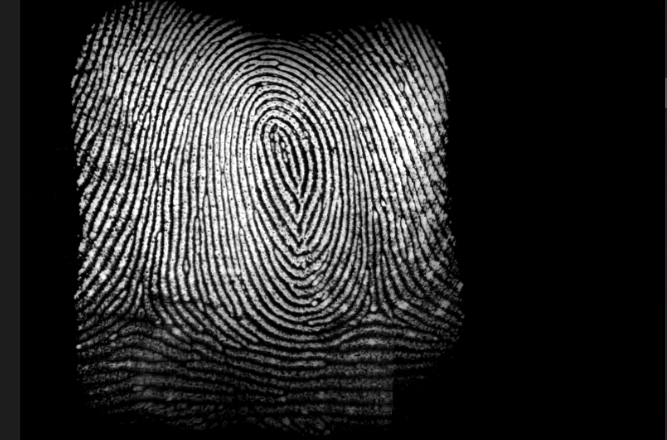nucelo: (250, 115, 306, 180)
verticilo: (122, 281, 163, 330), (356, 289, 392, 324)
